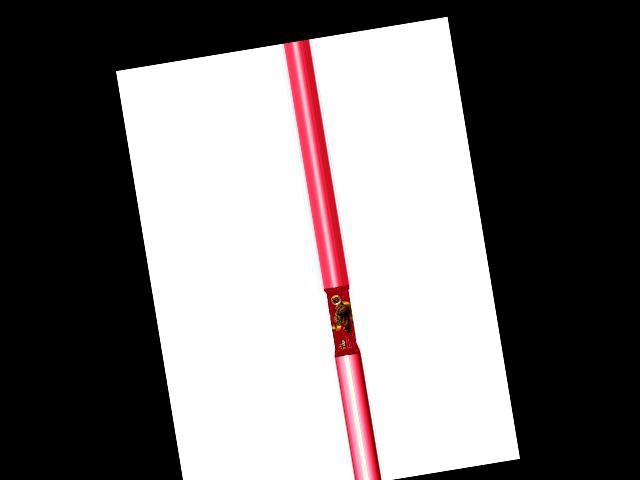chocolate: (325, 285, 362, 357)
